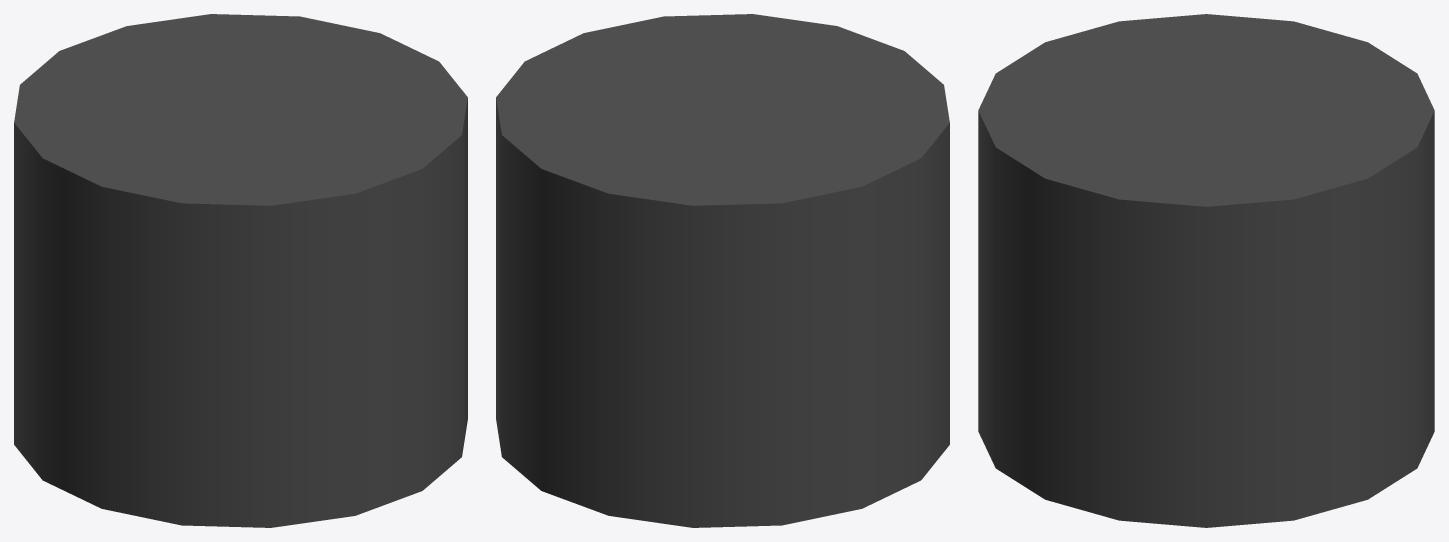
Rendered from Stylus_System.obj.
The picture shows the model from 3 angles, left to right: view 1: azimuth 30°, elevation 25°; view 2: azimuth 150°, elevation 25°; view 3: azimuth 270°, elevation 25°; orthographic projection.
Visible parts, largest first — view 1: Stylus_System_System; view 2: Stylus_System_System; view 3: Stylus_System_System.
Part boxes in pixels (bbox=[...]): Stylus_System_System: bbox=[14, 14, 467, 527]; Stylus_System_System: bbox=[496, 14, 949, 527]; Stylus_System_System: bbox=[978, 14, 1434, 527].
Bounding box in the file's own units: 0.00291 × 0.00226 × 0.00291.
Materials: 1 (1 with a texture image).
